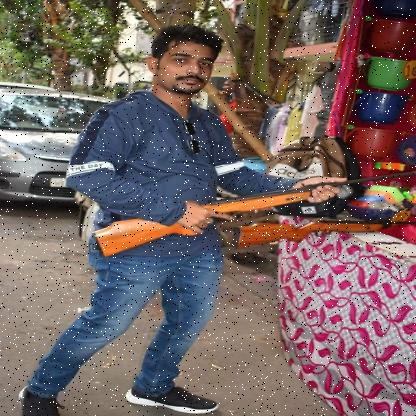rifle: (89, 170, 415, 260), (228, 217, 416, 251)
